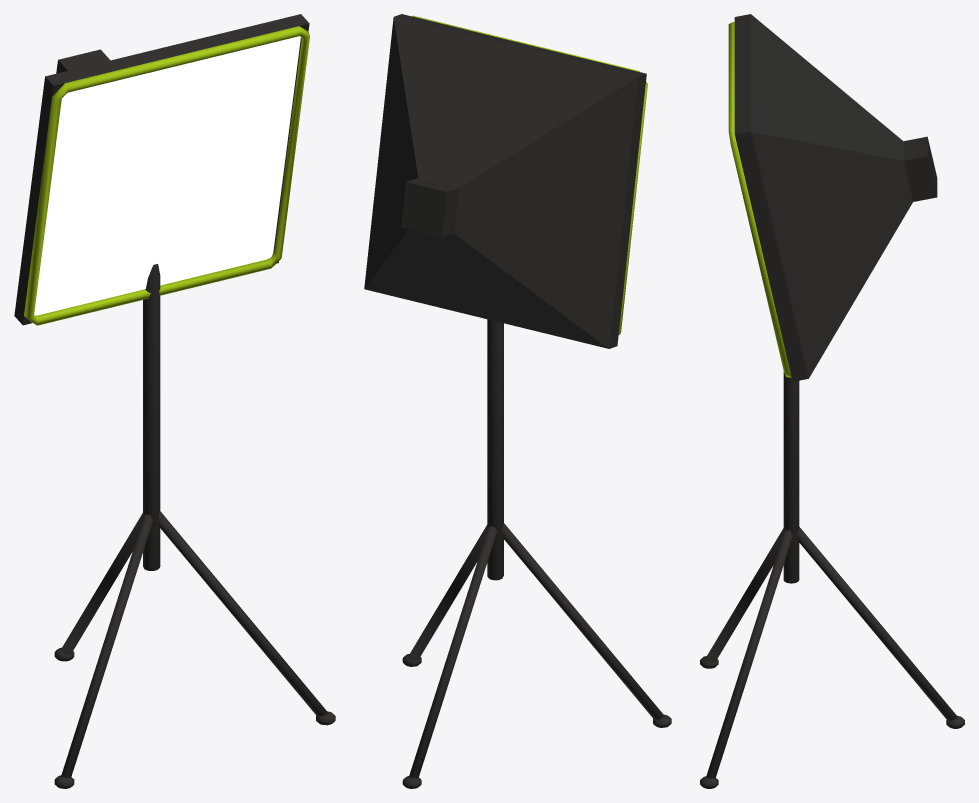
Rendered from softbox.glb.
3 views of the same model, side by side, from view 1: azimuth 30°, elevation 25°; view 2: azimuth 150°, elevation 25°; view 3: azimuth 270°, elevation 25° (orthographic). The views are drawn at different scales.
Parts seen in each view (by area): view 1: softbox; view 2: softbox; view 3: softbox.
Boxes of the visible parts, x1,y1,x2,y2 form: softbox: (14,14,335,788); softbox: (364,14,671,788); softbox: (700,14,964,788).
Bounding box in the file's own units: 0.7381 × 1.76 × 0.6453.
